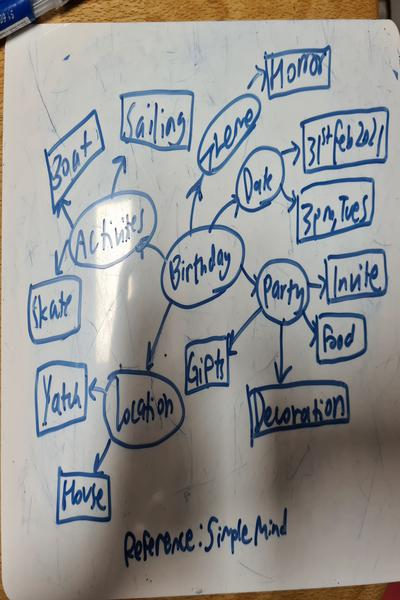arrow: (146, 301, 172, 373), (227, 307, 264, 357), (274, 320, 292, 385), (188, 172, 205, 231), (210, 194, 239, 228), (110, 154, 131, 192), (93, 436, 113, 474), (301, 308, 317, 350), (245, 65, 267, 95), (53, 239, 70, 276), (54, 199, 75, 228), (140, 239, 166, 262), (240, 266, 257, 298), (307, 274, 326, 301), (281, 142, 302, 164), (280, 185, 296, 213), (89, 378, 105, 402)
idea: (38, 111, 105, 202), (245, 382, 350, 439), (300, 108, 388, 176), (295, 179, 375, 244), (119, 89, 193, 154), (37, 361, 87, 439), (26, 276, 82, 344), (263, 45, 329, 101), (323, 248, 390, 303), (314, 312, 368, 366), (56, 471, 109, 524), (184, 337, 231, 394)
topic: (161, 225, 245, 308), (105, 369, 188, 450), (67, 192, 157, 265), (198, 93, 259, 169), (257, 258, 310, 327), (237, 145, 284, 212)
